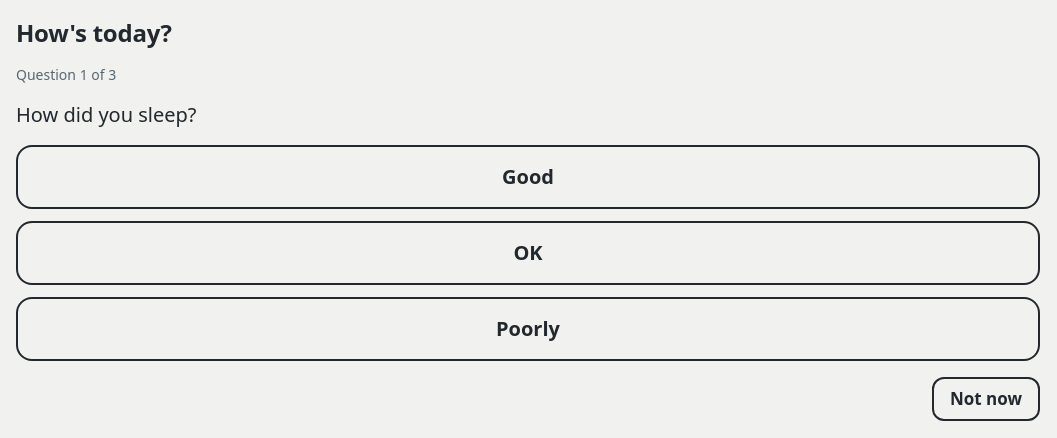
Test: go lighter offers only Continue
Click the button "Poorly": (528, 329) x1=16 y1=297 x2=1040 y2=361
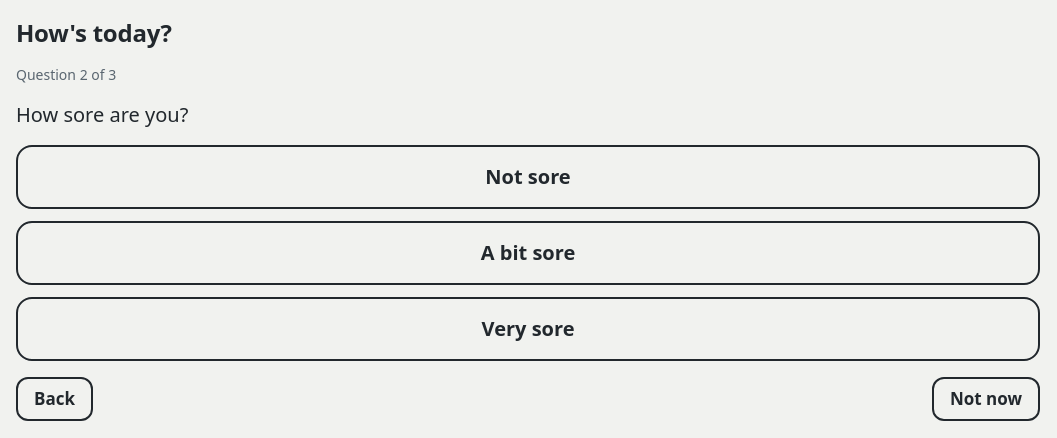
Click the button "Very sore": (528, 329) x1=16 y1=297 x2=1040 y2=361
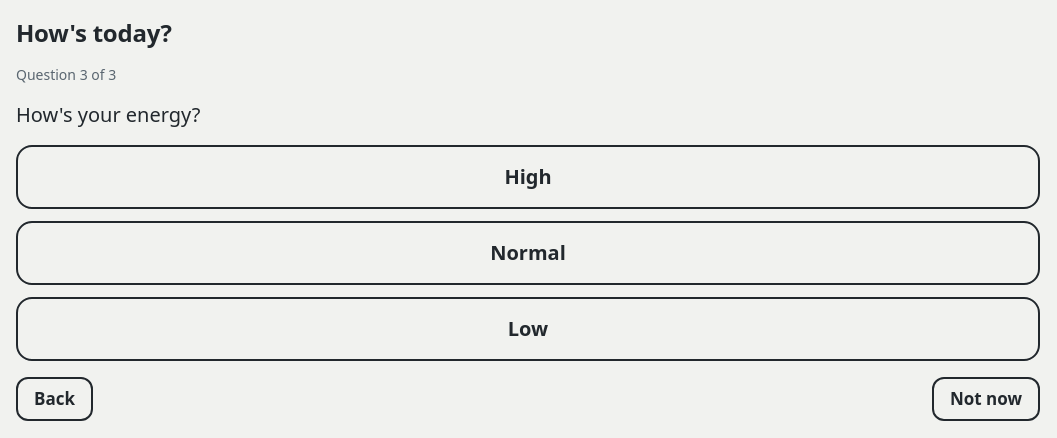
Click the button "Low": (528, 329) x1=16 y1=297 x2=1040 y2=361
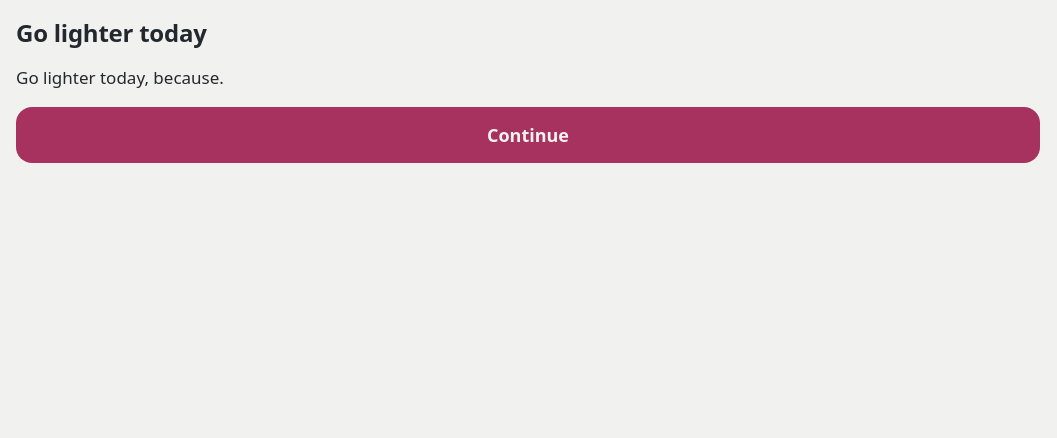
Now the heading "Go lighter today" is shown, box x1=16 y1=16 x2=207 y2=49
